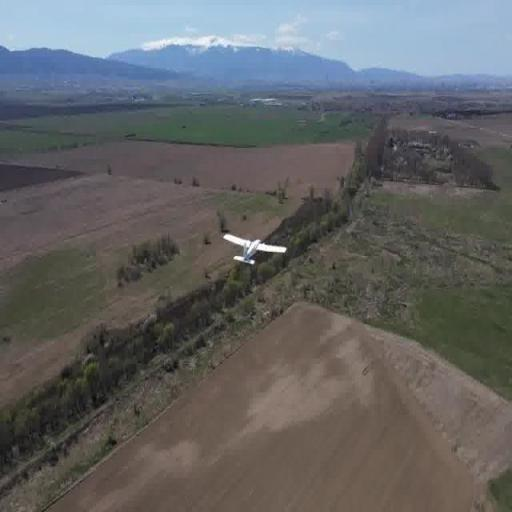uav: (221, 228, 288, 272)
